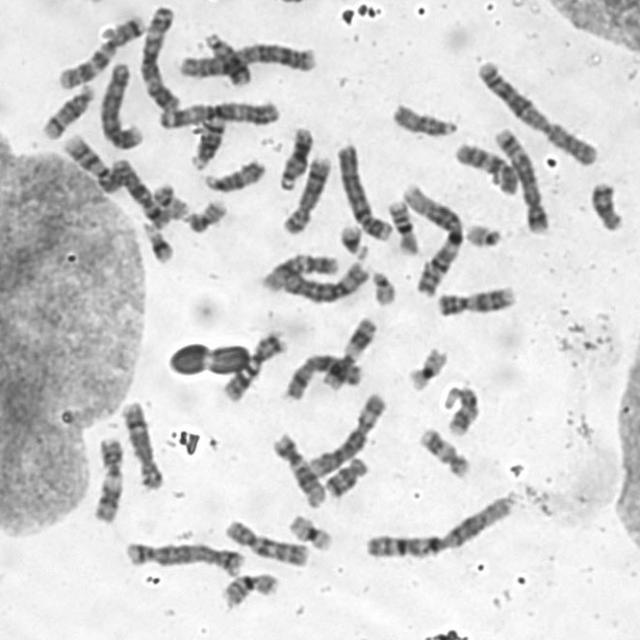A1: (361, 489, 520, 562), (398, 180, 465, 299)
A2: (472, 56, 600, 168), (175, 38, 319, 80)
A3: (137, 3, 183, 112), (155, 97, 282, 131)
B4: (334, 139, 394, 243), (98, 59, 146, 150)
B5: (492, 123, 551, 235), (121, 536, 246, 577)
C10: (221, 516, 310, 567), (450, 138, 520, 197)
C11: (319, 314, 379, 391), (89, 434, 125, 526)
C12: (270, 430, 326, 509), (257, 249, 340, 295)
C6: (305, 389, 389, 478), (277, 257, 372, 305)
C7: (53, 11, 146, 91), (219, 328, 287, 402)
C8: (277, 153, 334, 236), (118, 397, 166, 492)
C9: (60, 130, 118, 191), (433, 281, 518, 319)
D13: (201, 28, 252, 86), (275, 124, 317, 192)
D14: (38, 81, 95, 141), (187, 112, 228, 170)
D15: (388, 100, 460, 139), (200, 157, 268, 193)
E16: (220, 569, 279, 609), (386, 196, 420, 256)
E17: (414, 423, 472, 480), (447, 385, 480, 437)
E18: (322, 453, 370, 499), (587, 178, 624, 232)
F19: (404, 344, 450, 393), (286, 511, 335, 552)
F20: (186, 196, 229, 235), (150, 180, 191, 220)
G21: (141, 219, 176, 264), (336, 220, 369, 260)
G22: (369, 267, 398, 308), (463, 220, 505, 248)
X: (109, 156, 169, 230), (279, 350, 363, 402)
